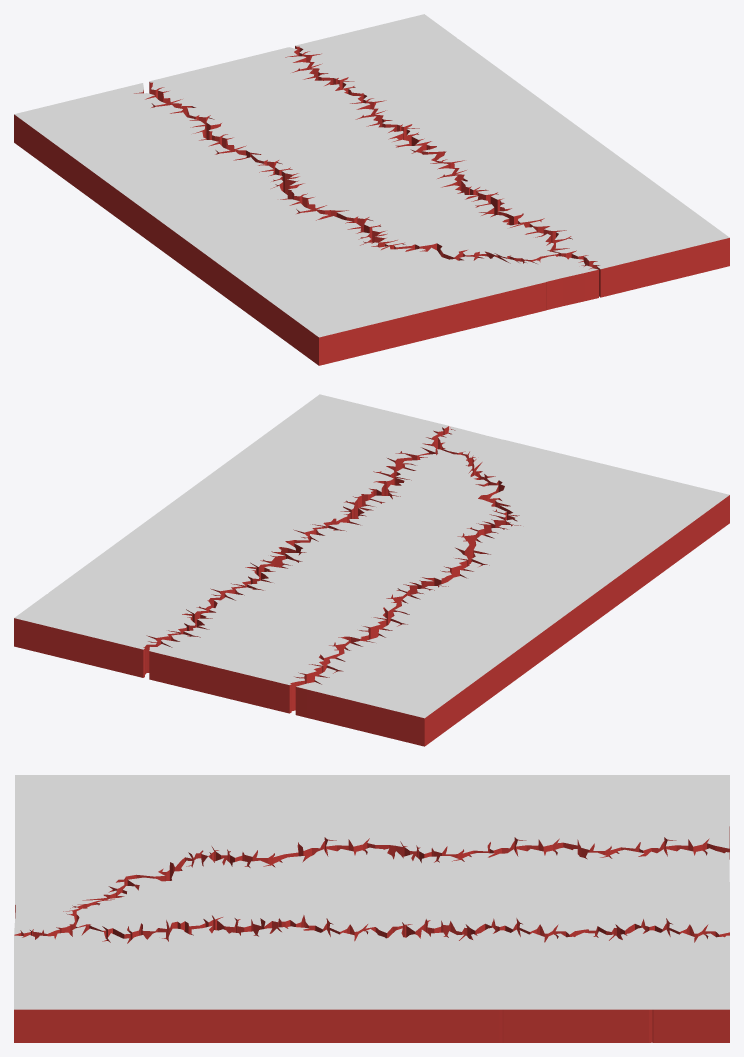
The model's file is untitlesddssdd 6.fbx.
3 views of the same model, one above another, from view 1: azimuth 30°, elevation 25°; view 2: azimuth 150°, elevation 25°; view 3: azimuth 270°, elevation 25° (orthographic). The views are drawn at different scales.
Visible parts, largest first — view 1: Plane.009, Plane.010, Plane.008; view 2: Plane.009, Plane.010, Plane.008; view 3: Plane.010, Plane.009, Plane.008.
Part boxes in pixels (x1=…): Plane.009: x1=14, y1=83, x2=545, y2=365; Plane.010: x1=295, y1=14, x2=729, y2=297; Plane.008: x1=149, y1=47, x2=598, y2=310; Plane.009: x1=295, y1=439, x2=729, y2=746; Plane.010: x1=14, y1=394, x2=449, y2=677; Plane.008: x1=149, y1=426, x2=506, y2=713; Plane.010: x1=14, y1=926, x2=729, y2=1042; Plane.009: x1=15, y1=775, x2=729, y2=928; Plane.008: x1=14, y1=847, x2=729, y2=941.
Size of the model in its own units: 8263 by 546 by 10654.
